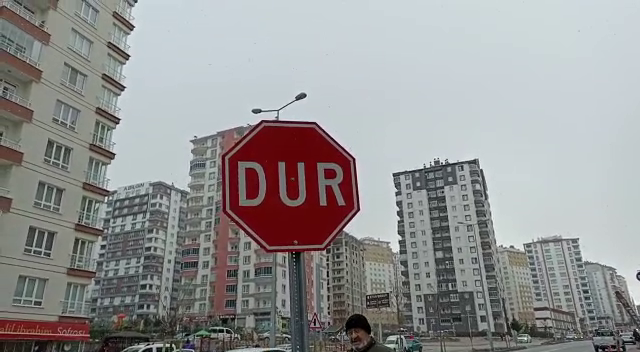stop: (219, 118, 365, 254)
